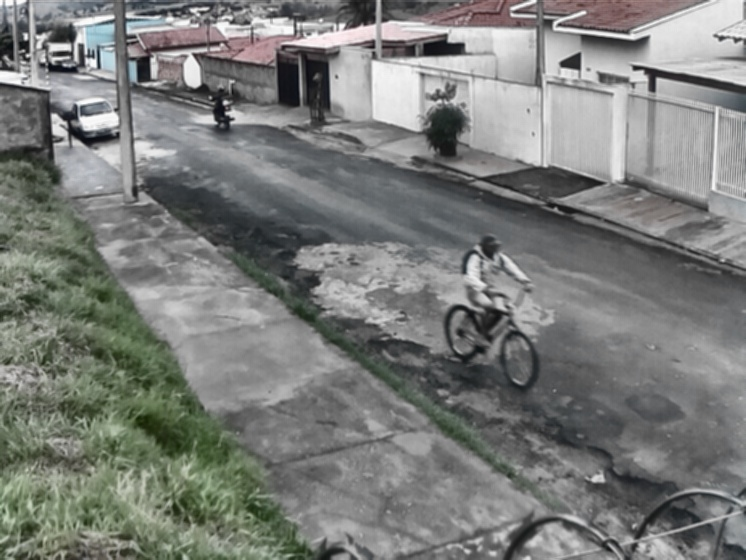person: (459, 231, 533, 356)
